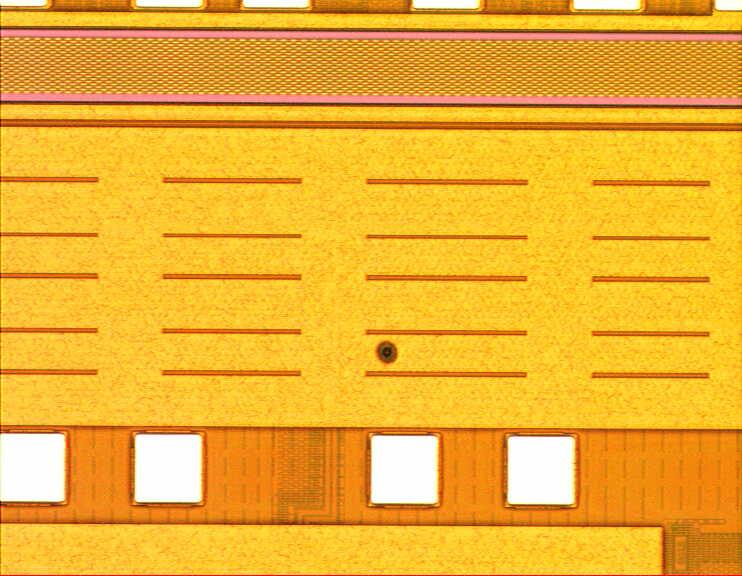PIQ PARTICLE: (371, 336, 407, 372)
